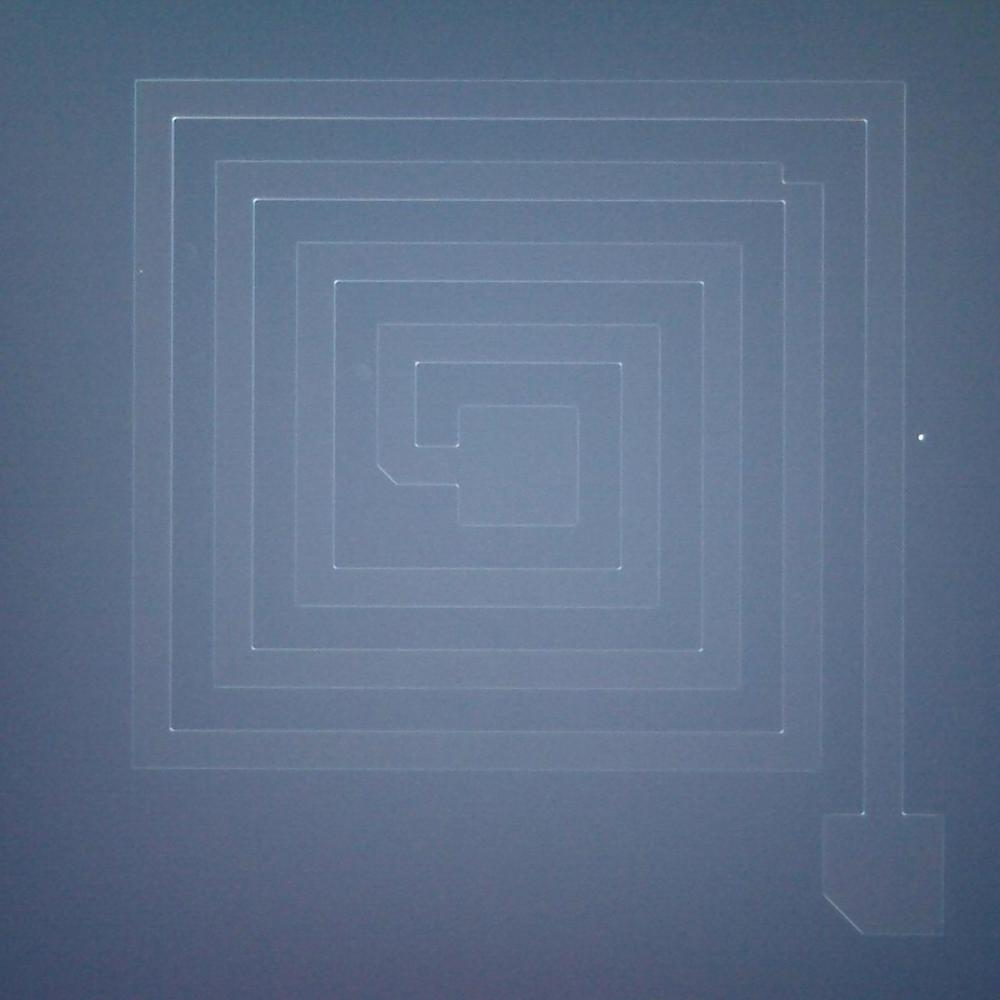dot: (907, 423, 934, 447)
edge circuit: (808, 880, 872, 950), (768, 153, 836, 197), (364, 448, 410, 496)
